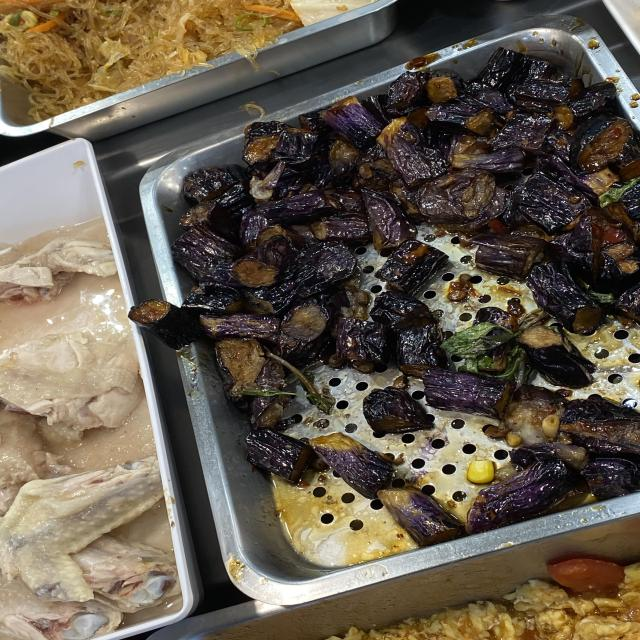eggplant: (270, 125, 609, 224)
